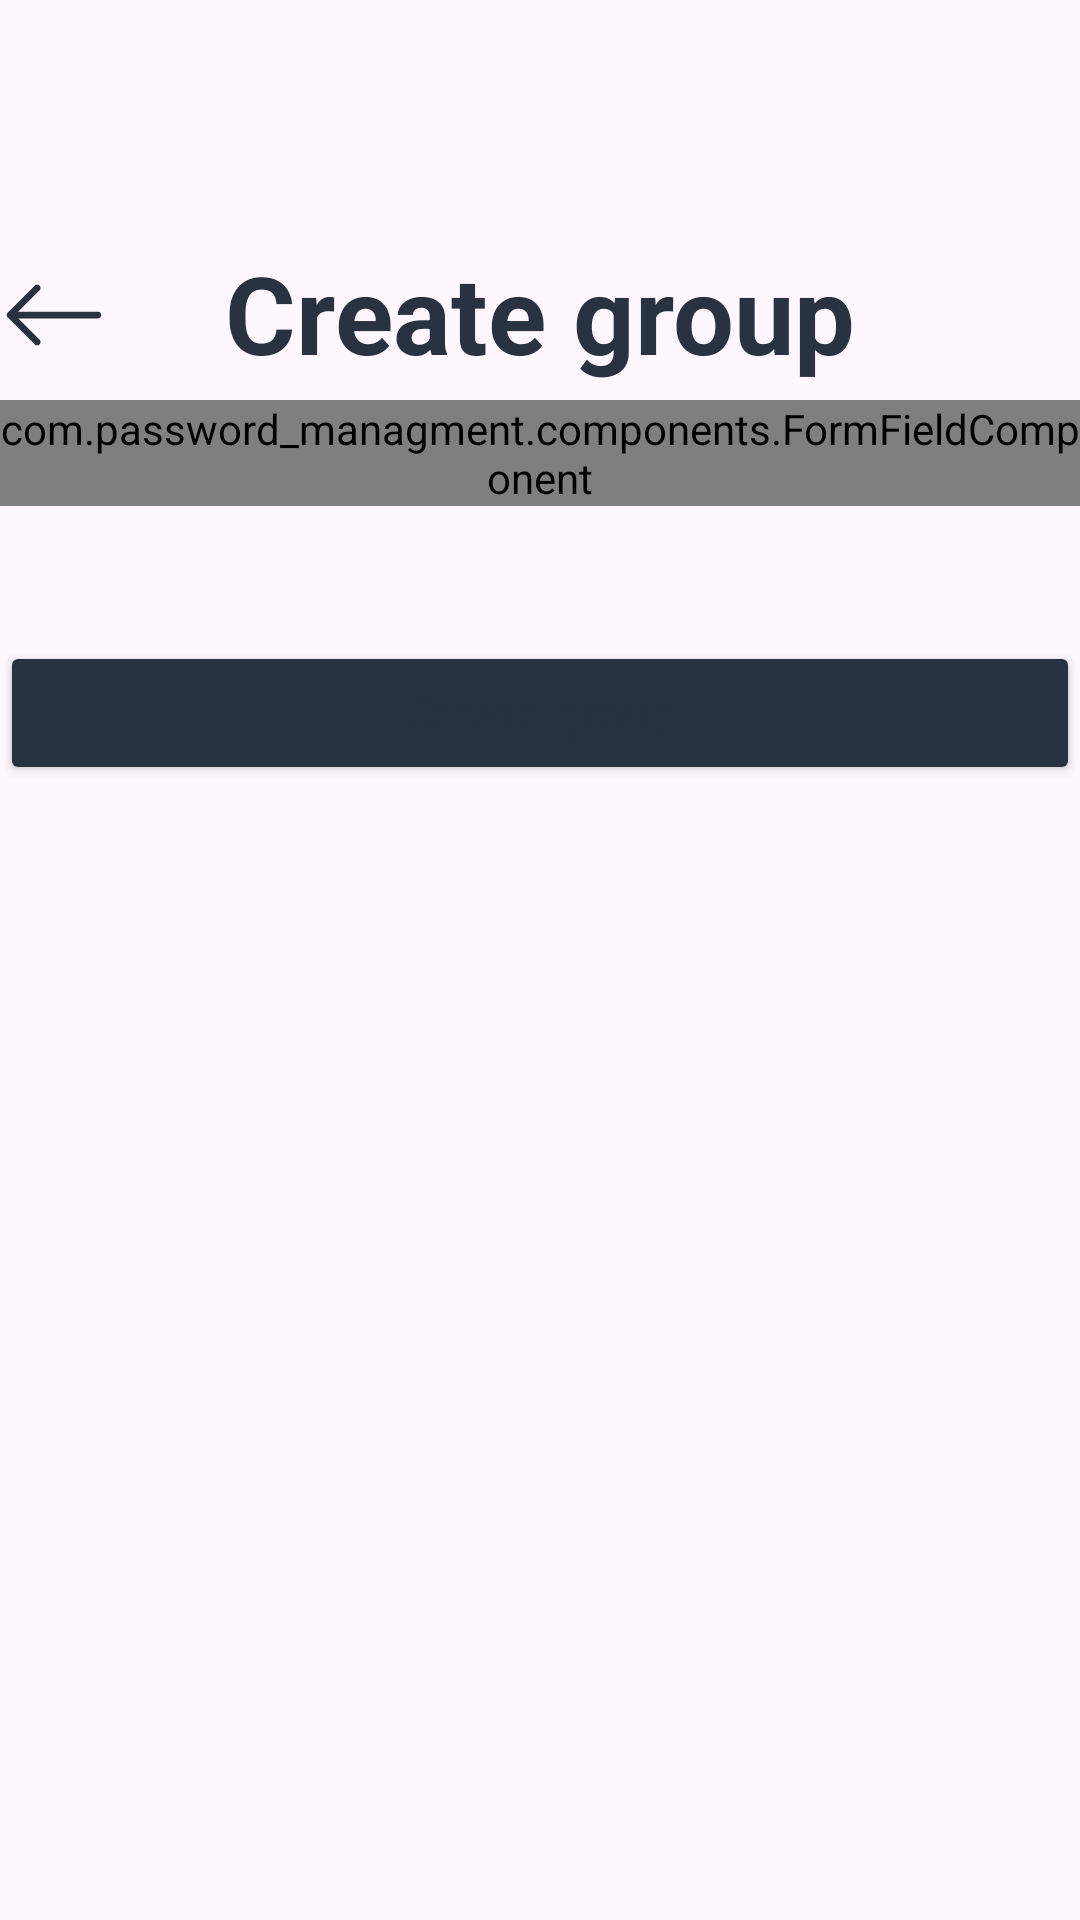

Icons on this 1080 x 1920 Android screen, each with its box as (x1, y1, x2, y2):
arrowleft: (6, 284, 102, 346)
